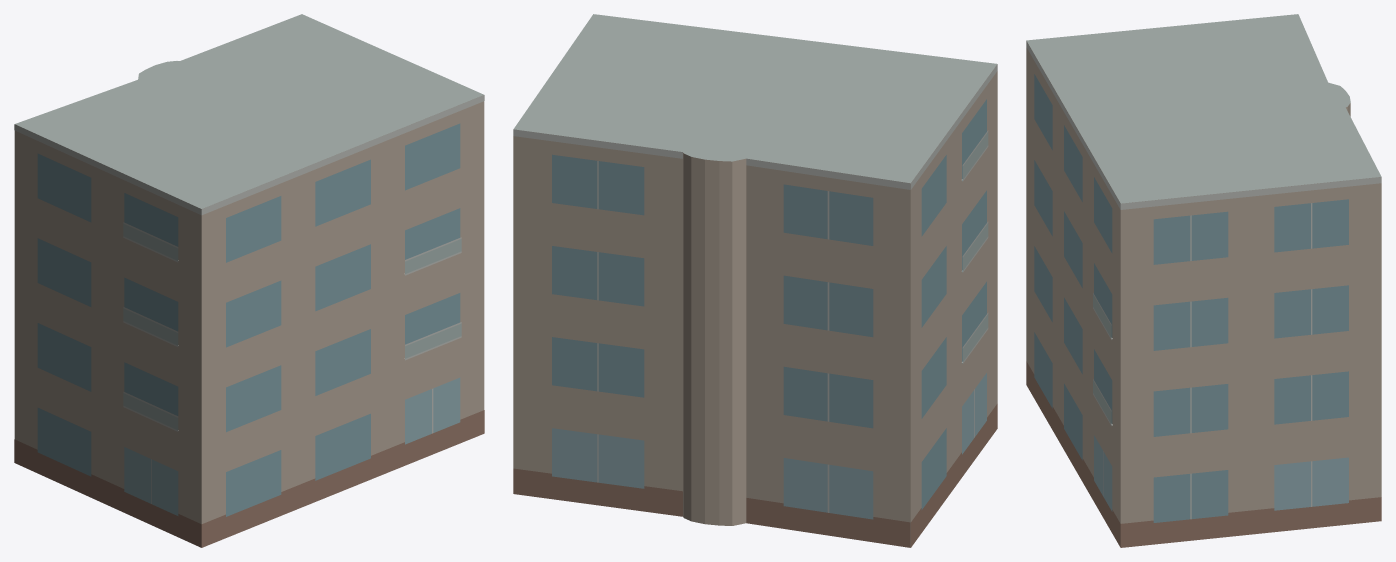
The model's file is survey-upis-32933700.glb.
3 renders of one model, left to right at view 1: azimuth 30°, elevation 25°; view 2: azimuth 150°, elevation 25°; view 3: azimuth 270°, elevation 25°, orthographic. The views are drawn at different scales.
Parts seen in each view (by area): view 1: survey-upis-32933700.tmp; view 2: survey-upis-32933700.tmp; view 3: survey-upis-32933700.tmp.
Boxes of the visible parts, x1,y1,x2,y2 form: survey-upis-32933700.tmp: [14, 14, 484, 547]; survey-upis-32933700.tmp: [513, 14, 997, 547]; survey-upis-32933700.tmp: [1026, 14, 1381, 547].
Bounding box in the file's own units: 15.54 × 13.15 × 12.31.
